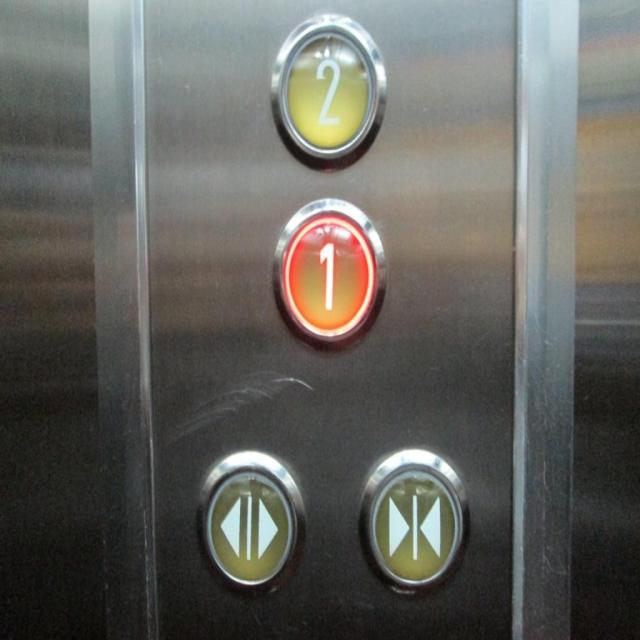1: (269, 193, 389, 354)
2: (266, 6, 389, 172)
close: (353, 442, 472, 600)
open: (192, 445, 307, 601)
